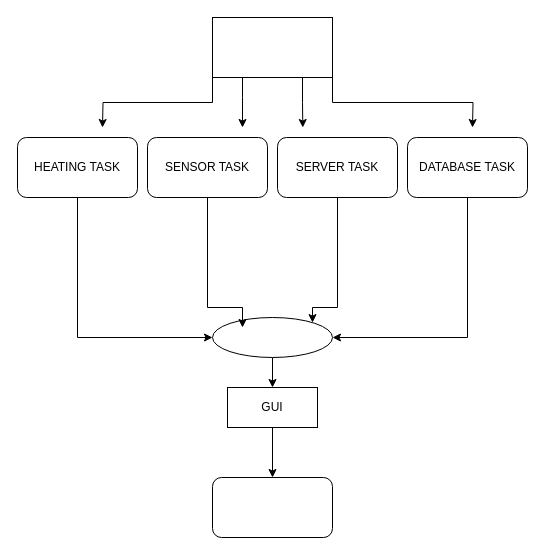
Image size: 545x555. Some labels were removed from this diagram. The shapes that lost their labels are listed below. From the top down, each one's centre as x and y in pixels, then its label:
At (272,47): "MAIN TASK".
At (272,337): "SEMAPHORE".
At (272,507): "DISPLAY".
